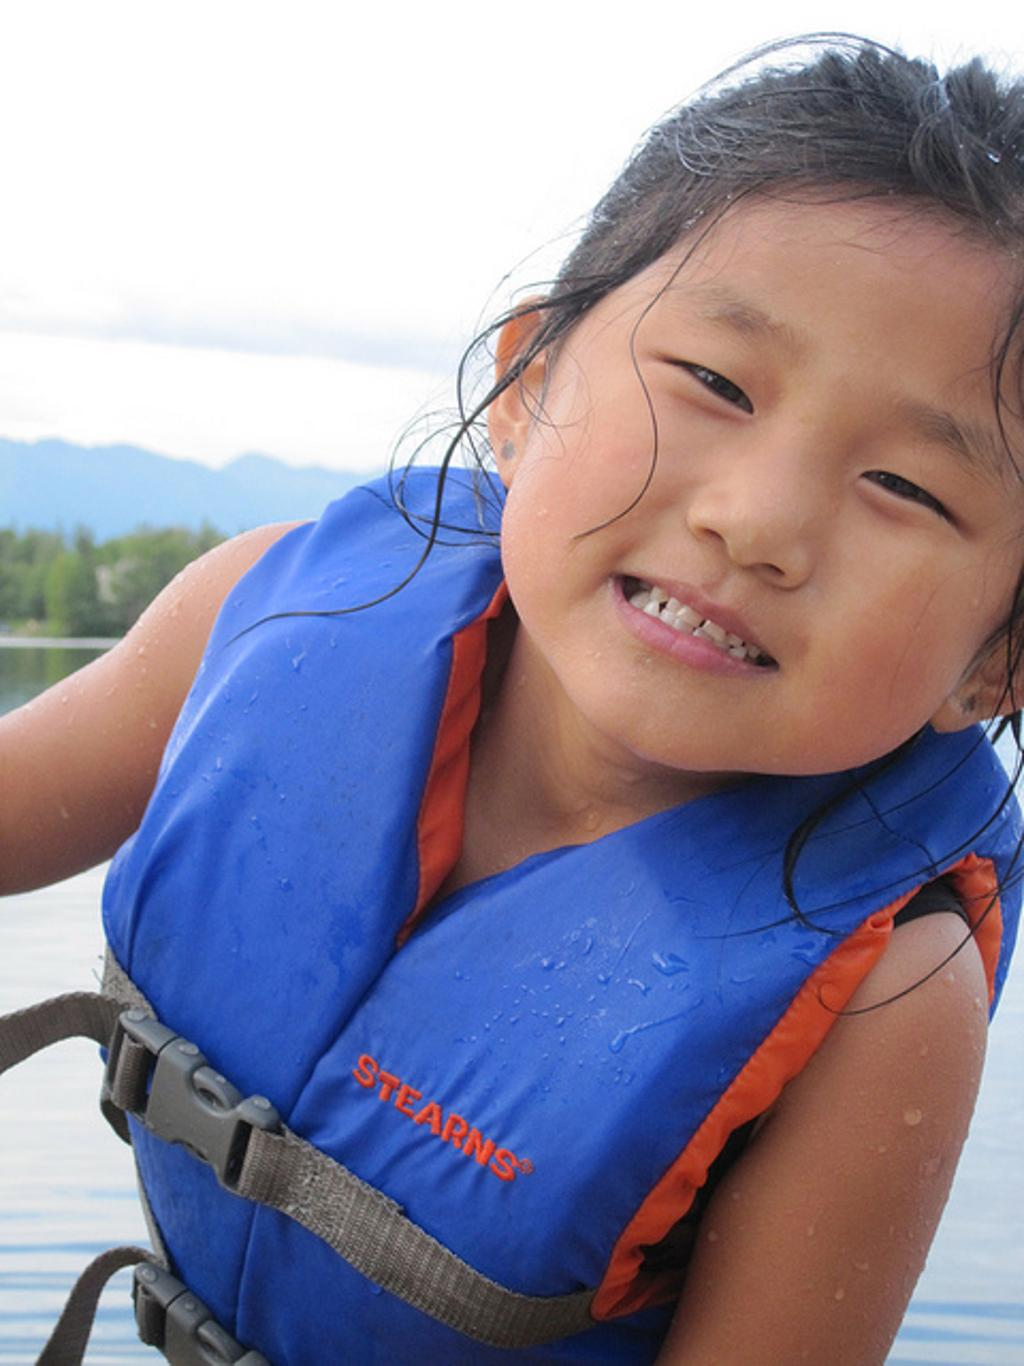face: (520, 205, 995, 776)
